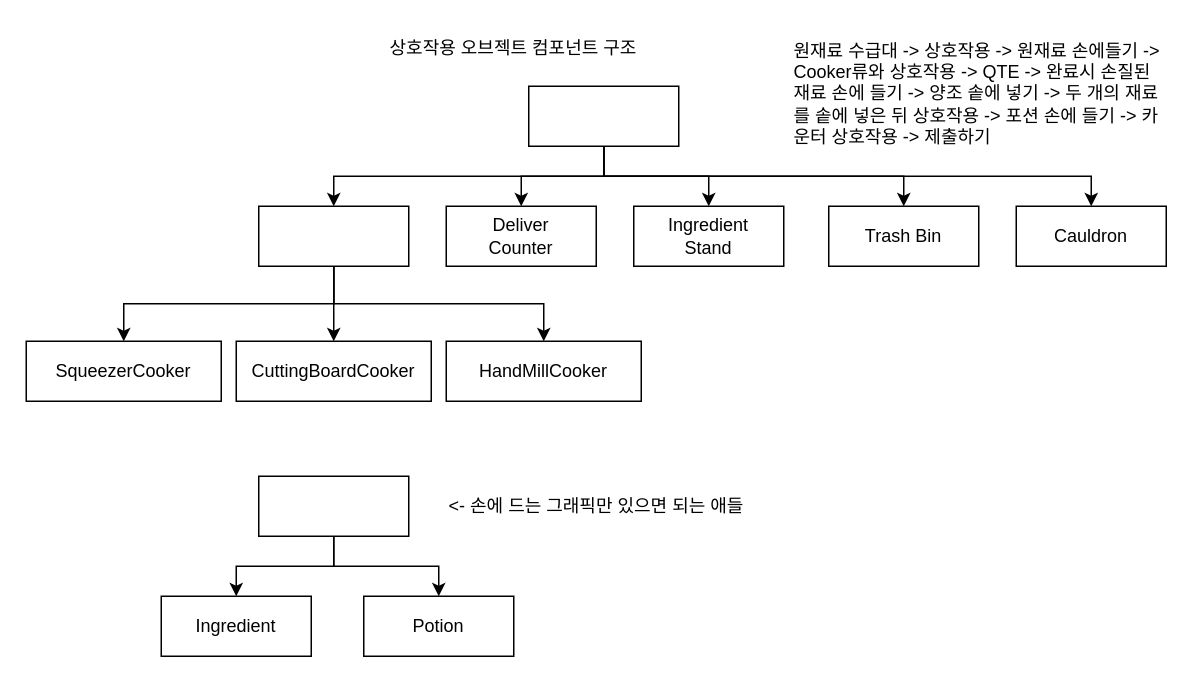
Image size: 1193x683. Some labels were removed from this diagram. Each missing label, with the centre of its shape:
Cooker: point (333, 235)
Holdable: point (333, 505)
Interactable: point (603, 115)
